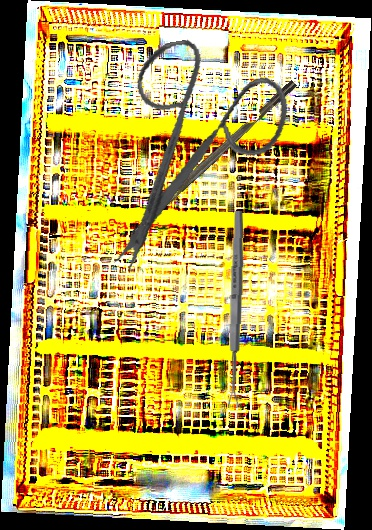Chopper: (119, 79, 305, 251)
Iris Scissors: (76, 24, 312, 276)
Surgical Spoon: (225, 210, 246, 409)
